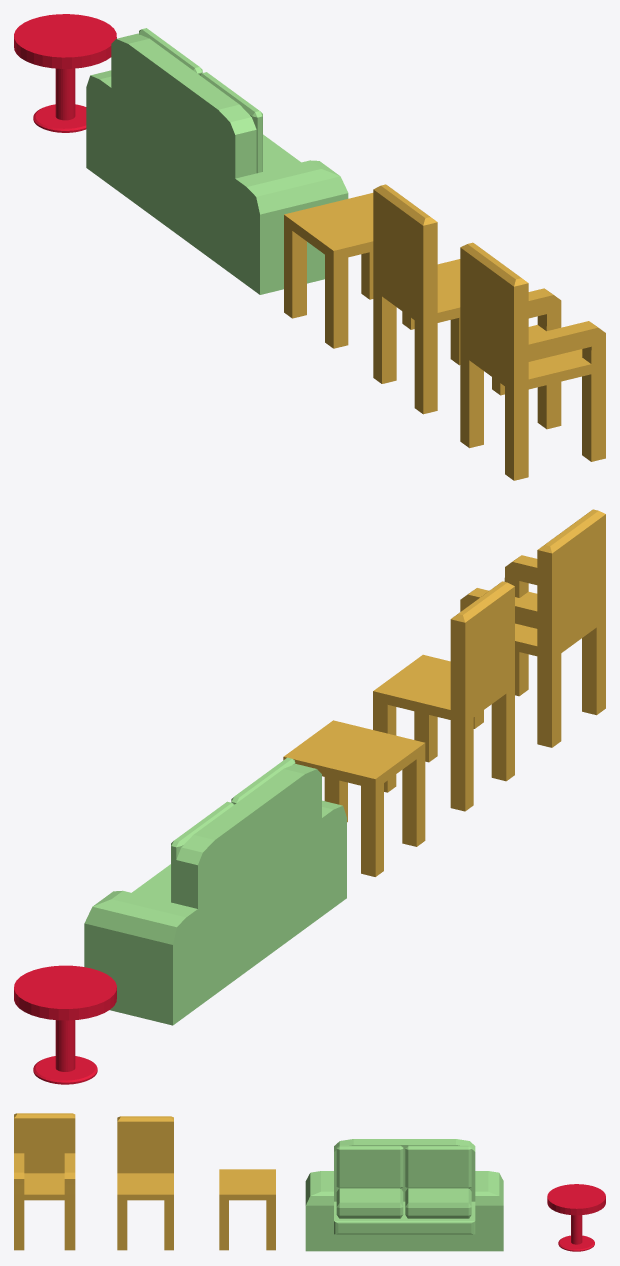
File: Chairs.fbx
The picture shows the model from 3 angles, top to bottom: view 1: azimuth 30°, elevation 25°; view 2: azimuth 150°, elevation 25°; view 3: azimuth 270°, elevation 25°; orthographic projection. The views are drawn at different scales.
Visible parts, largest first — view 1: Sofa base, Desk chair, Basic chair, Stool, Round stool, Sofa Cusions.001; view 2: Sofa base, Basic chair, Desk chair, Stool, Round stool, Sofa Cusions.001; view 3: Sofa base, Sofa Cusions.001, Desk chair, Basic chair, Stool, Round stool.
Part boxes in pixels (x1,y1,x2,y2): Sofa base: (86, 33, 348, 294); Desk chair: (460, 242, 605, 480); Basic chair: (373, 184, 504, 414); Stool: (284, 193, 414, 348); Round stool: (14, 14, 116, 132); Sofa Cusions.001: (138, 28, 300, 173); Sofa base: (84, 764, 346, 1025); Basic chair: (373, 581, 514, 811); Desk chair: (460, 509, 605, 747); Stool: (283, 720, 425, 876); Round stool: (14, 965, 116, 1084); Sofa Cusions.001: (132, 757, 295, 903); Sofa base: (305, 1139, 503, 1251); Sofa Cusions.001: (336, 1145, 471, 1218); Desk chair: (14, 1113, 75, 1250); Basic chair: (117, 1116, 173, 1250); Stool: (219, 1169, 275, 1250); Round stool: (547, 1184, 605, 1251).
Size of the model in its own units: 233 by 489 by 2187.
